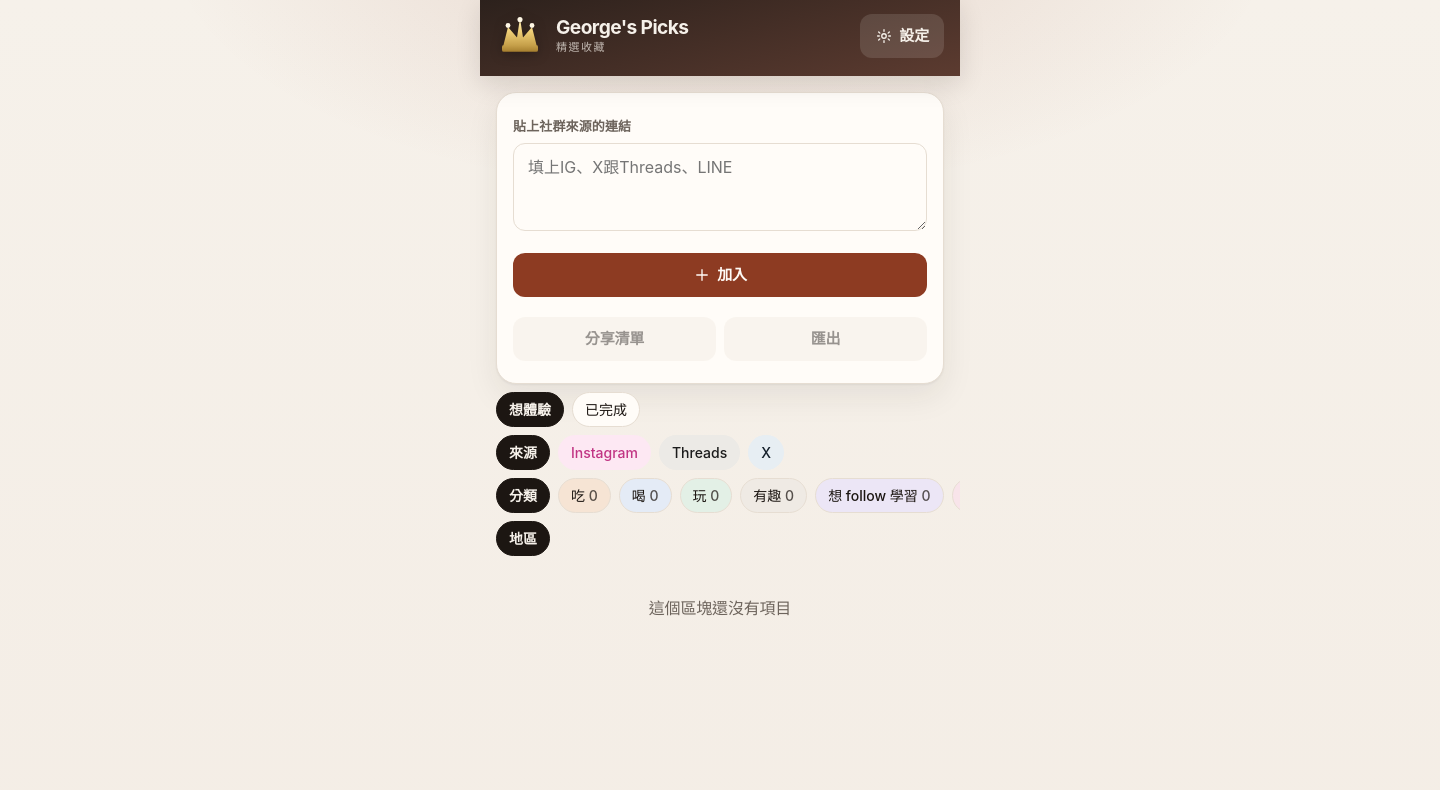
Test case: 功能: 想體驗、已完成與評價 › 情境: 已完成的收藏在詳情顯示評分與評價
Later steps or results of the test are not shown.
Expected: the heading "George's Picks" is shown, [556,16,688,38]
What coordinates should you click on to do the following:
click the button "已完成"
I would click on:
 (606, 409)
Its box is [572,392,640,426].
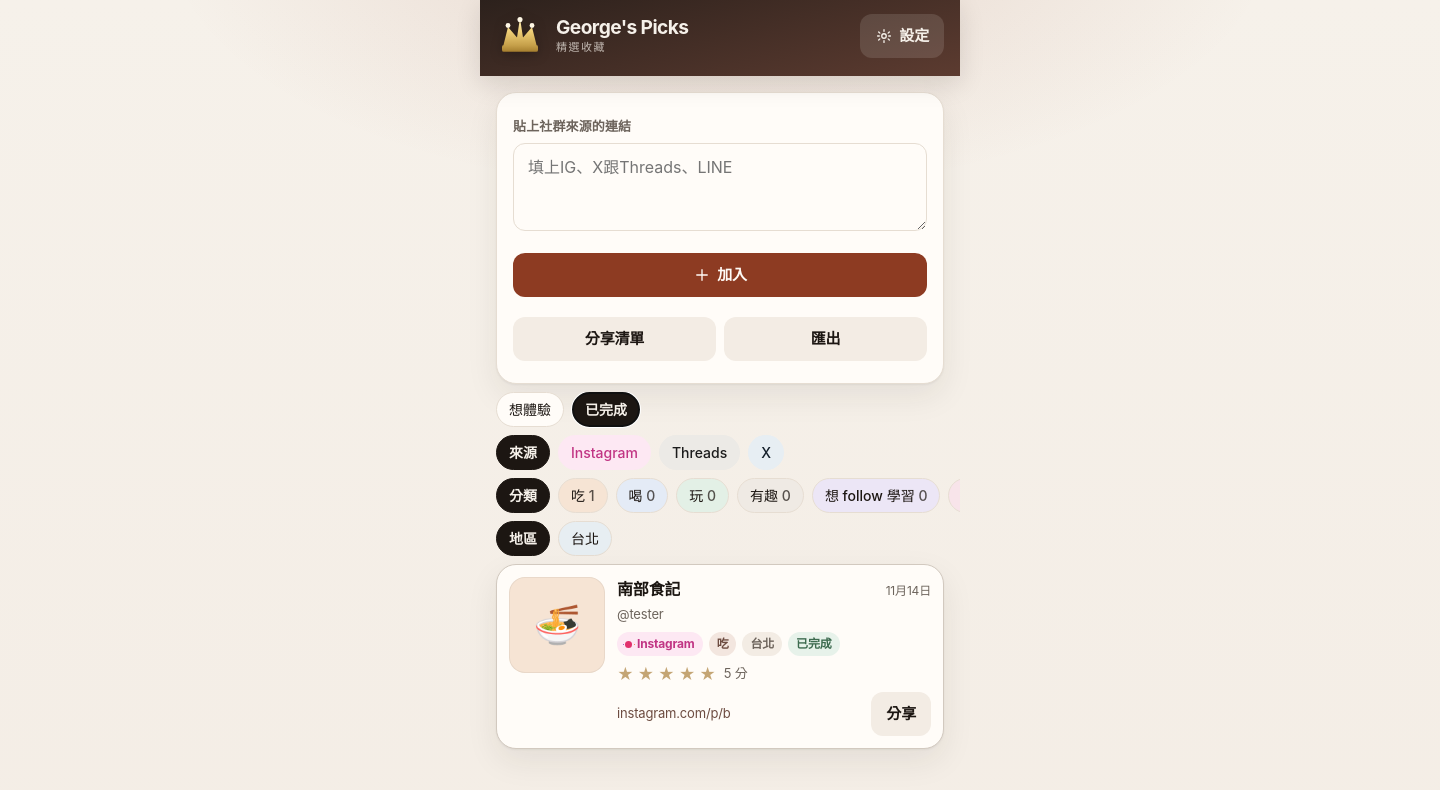
What coordinates should you click on to do the following:
click the button "南部食記"
I would click on:
 (720, 656)
Its box is [496,564,944,748].
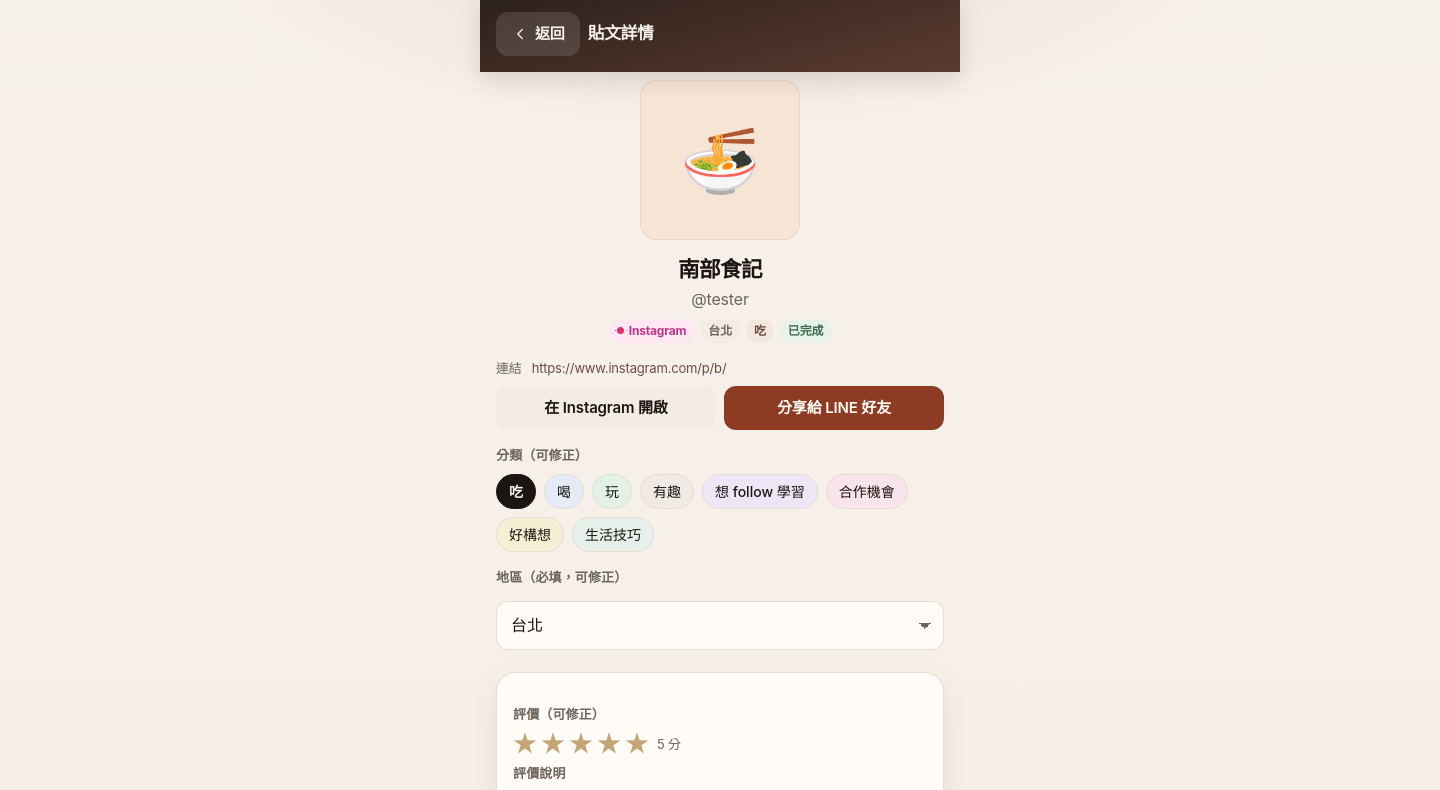
Now the text "5 分" is shown, box [657,735,681,754]
